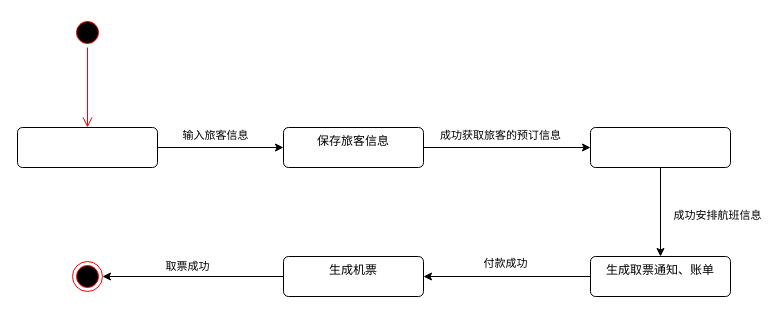
Image size: 778x314. Some labels were removed from this diagram. Here are the shapes that lost their labels. From the top down, the centre of each, then its label:
At pixel 87 147: "空闲".
At pixel 660 147: "安排航班信息".
